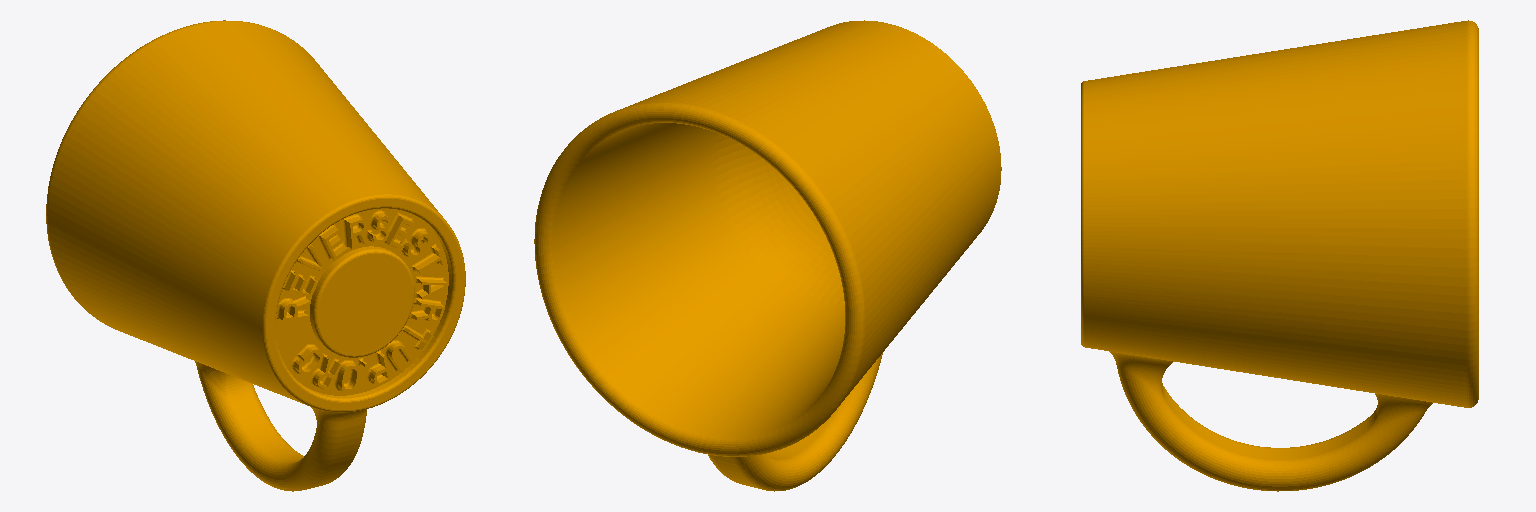
URDF robot description (coffee):
<?xml version="1.0" ?>
<robot name="coffee">
    <link name="base_link">
        <visual>
            <geometry>
                <mesh filename="coffee.stl" scale="0.03 0.03 0.03"/>
            </geometry>
        </visual>
        <collision>
            <geometry>
                <mesh filename="coffee.stl" scale="0.03 0.03 0.03"/>
            </geometry>
        </collision>
    </link>
</robot>

--- What the picture shows (computed from the rendered views, not written in the file) ---
The picture shows the robot from 3 angles, left to right: view 1: azimuth 30°, elevation 25°; view 2: azimuth 150°, elevation 25°; view 3: azimuth 270°, elevation 25°; orthographic projection.
Robot: coffee — 1 links, 0 joints (none); root link base_link; default pose: every joint at zero.
Links seen in each view (by area): view 1: base_link; view 2: base_link; view 3: base_link.
Link boxes in pixels (x1,y1,x2,y2): base_link: (46, 20, 465, 491); base_link: (534, 20, 1001, 491); base_link: (1081, 20, 1478, 491).
Size in the robot's own frame: 0.0877 by 0.09 by 0.1113 metres.
Meshes: 1 distinct files referenced, 1 mesh visuals loaded (1 binary STL).